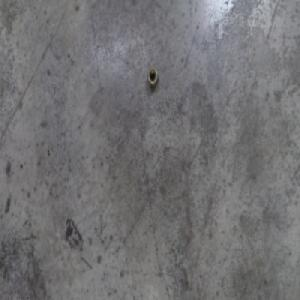Nut: (146, 66, 159, 89)
